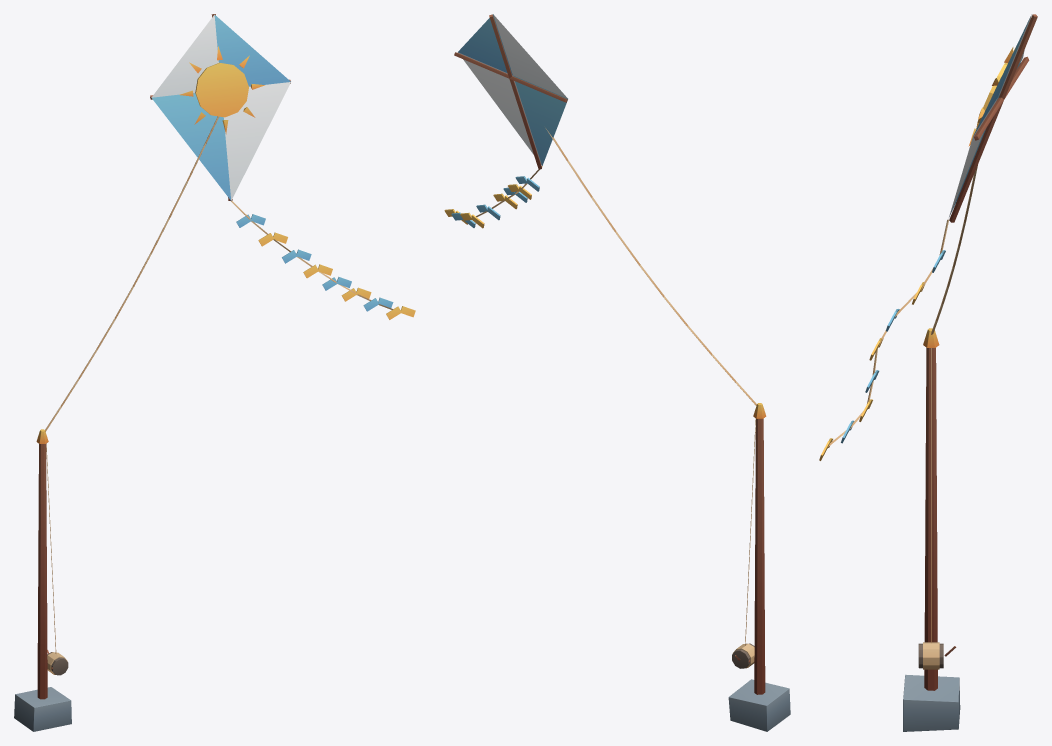
File: kite_pole.glb
The picture shows the model from 3 angles, left to right: view 1: azimuth 30°, elevation 25°; view 2: azimuth 150°, elevation 25°; view 3: azimuth 270°, elevation 25°; orthographic projection. The views are drawn at different scales.
Parts seen in each view (by area): view 1: kite_pole; view 2: kite_pole; view 3: kite_pole.
Part boxes in pixels (x1=…): kite_pole: x1=14, y1=14, x2=415, y2=731; kite_pole: x1=444, y1=14, x2=790, y2=731; kite_pole: x1=819, y1=14, x2=1037, y2=731.
Size of the model in its own units: 7.84 by 13.41 by 3.15.
Materials: 1 (1 with a texture image).
